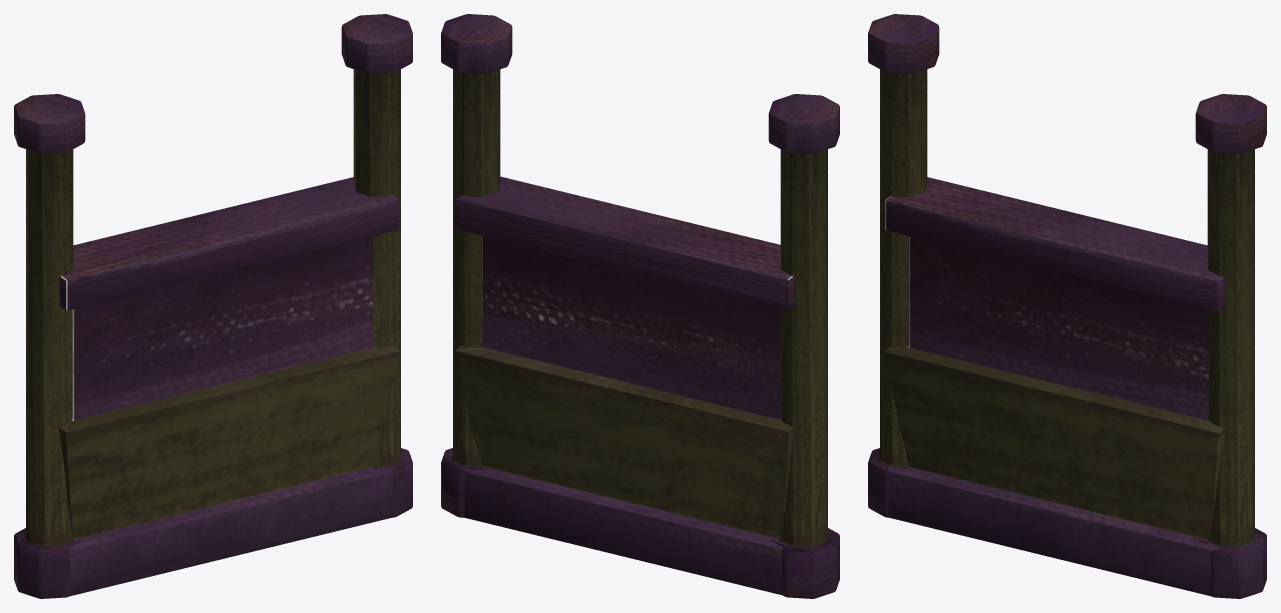
The model's file is MANOR_WALL_2_2.obj.
3 renders of one model, left to right at view 1: azimuth 30°, elevation 25°; view 2: azimuth 150°, elevation 25°; view 3: azimuth 330°, elevation 25°, orthographic.
Parts seen in each view (by area): view 1: MANOR_WALL_2_2.003; view 2: MANOR_WALL_2_2.003; view 3: MANOR_WALL_2_2.003.
Part boxes in pixels (x1,y1,x2,y2): MANOR_WALL_2_2.003: (14,14,412,598); MANOR_WALL_2_2.003: (441,14,839,598); MANOR_WALL_2_2.003: (868,14,1266,598).
Bounding box in the file's own units: 2.57 × 3 × 0.4139.
